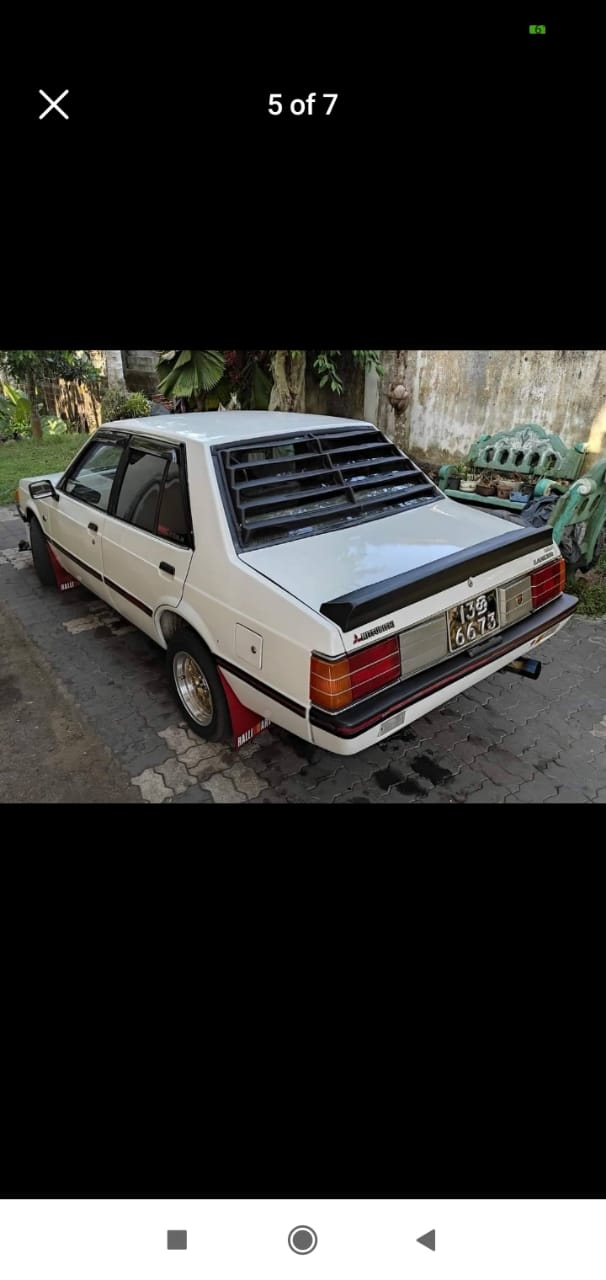number_plate: (439, 583, 512, 651)
